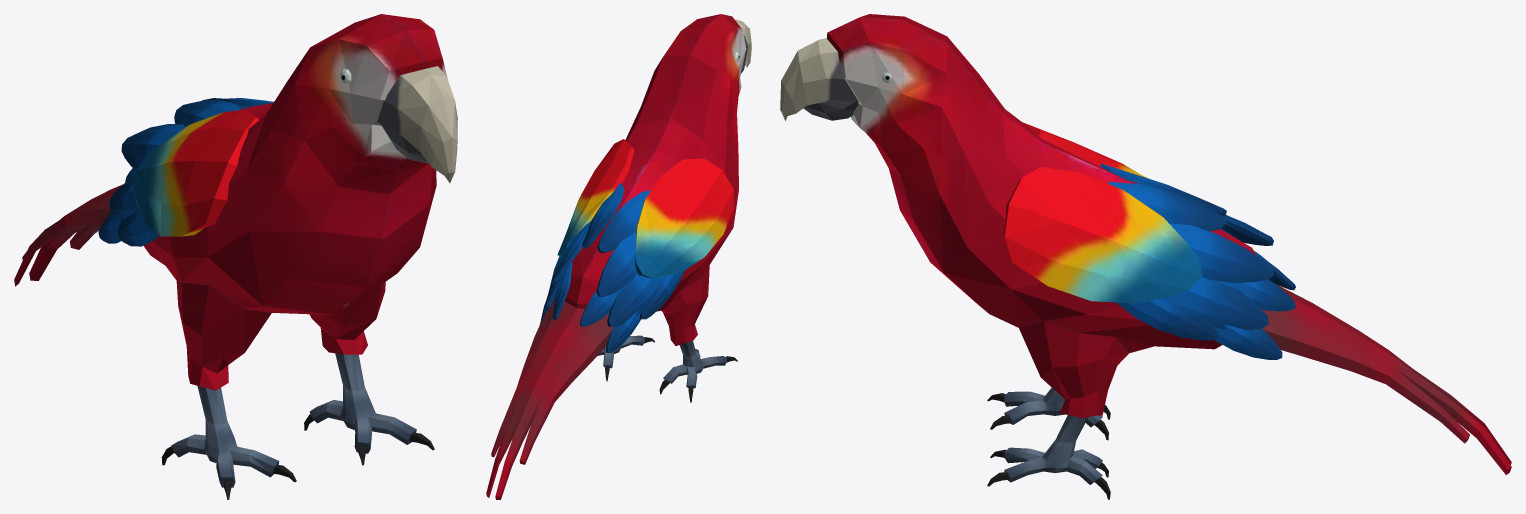
File: 35EeLqGHH1y.glb
3 views of the same model, side by side, from view 1: azimuth 30°, elevation 25°; view 2: azimuth 150°, elevation 25°; view 3: azimuth 270°, elevation 25° (orthographic). The views are drawn at different scales.
Parts seen in each view (by area): view 1: Node; view 2: Node; view 3: Node.
Part boxes in pixels (<box>): Node: <box>14,14,457,499</box>; Node: <box>486,14,751,499</box>; Node: <box>780,14,1511,499</box>.
Bounding box in the file's own units: 0.4516 × 1 × 1.46.
Materials: 2 (1 with a texture image).
